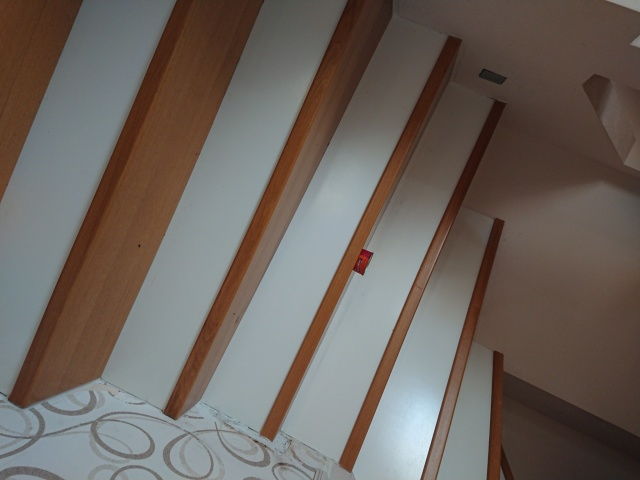Gavrilovic Pork Liver Pate 100g: (350, 247, 374, 276)
